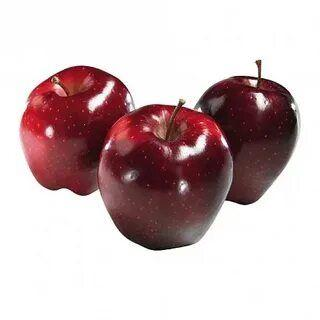Apple: (99, 104, 234, 252)
